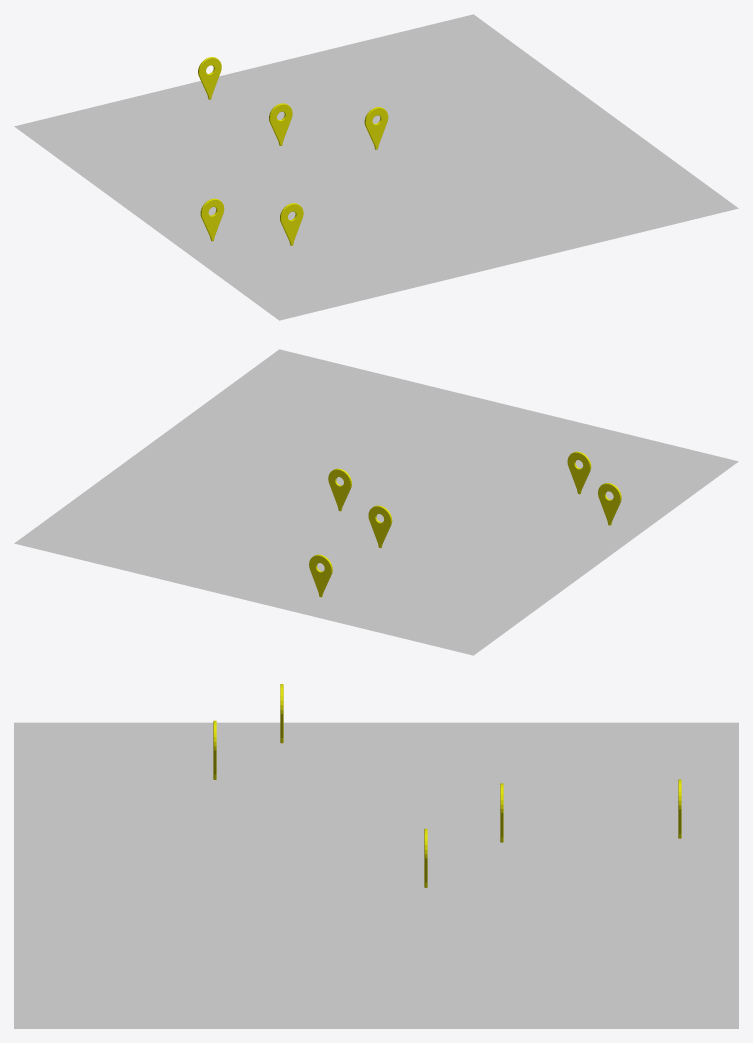
File: firstMapY.dae
3 renders of one model, top to bottom at view 1: azimuth 30°, elevation 25°; view 2: azimuth 150°, elevation 25°; view 3: azimuth 270°, elevation 25°, orthographic. The views are drawn at different scales.
Visible parts, largest first — view 1: Plane, Maps_Marker_001, Maps_Marker_004, Maps_Marker_003, Maps_Marker_002, Maps_Marker; view 2: Plane, Maps_Marker_001, Maps_Marker_003, Maps_Marker_002, Maps_Marker_004, Maps_Marker; view 3: Plane.
Boxes of the visible parts, <box> form: Plane: <box>14,14,738,320</box>; Maps_Marker_001: <box>198,57,221,99</box>; Maps_Marker_004: <box>280,203,303,245</box>; Maps_Marker_003: <box>200,198,224,241</box>; Maps_Marker_002: <box>269,103,292,145</box>; Maps_Marker: <box>364,107,388,149</box>; Plane: <box>14,349,738,655</box>; Maps_Marker_001: <box>309,554,332,597</box>; Maps_Marker_003: <box>598,483,621,525</box>; Maps_Marker_002: <box>368,505,392,548</box>; Maps_Marker_004: <box>567,451,591,494</box>; Maps_Marker: <box>328,468,351,511</box>; Plane: <box>14,722,738,1028</box>.
Bounding box in the file's own units: 16 × 16 × 1.4.
